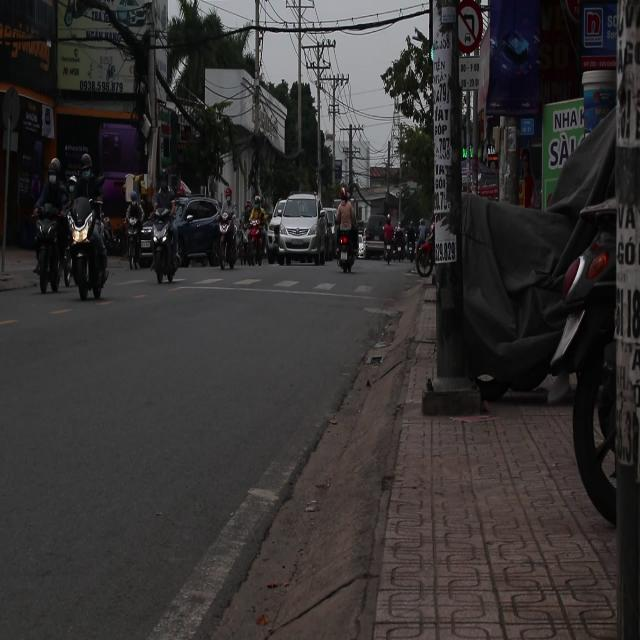car: (270, 195, 336, 267), (171, 198, 222, 269)
motorbike: (66, 214, 109, 300), (149, 202, 182, 286), (33, 203, 61, 287), (124, 192, 154, 270), (217, 214, 240, 270), (336, 221, 356, 281), (414, 230, 435, 278), (244, 220, 264, 267)
